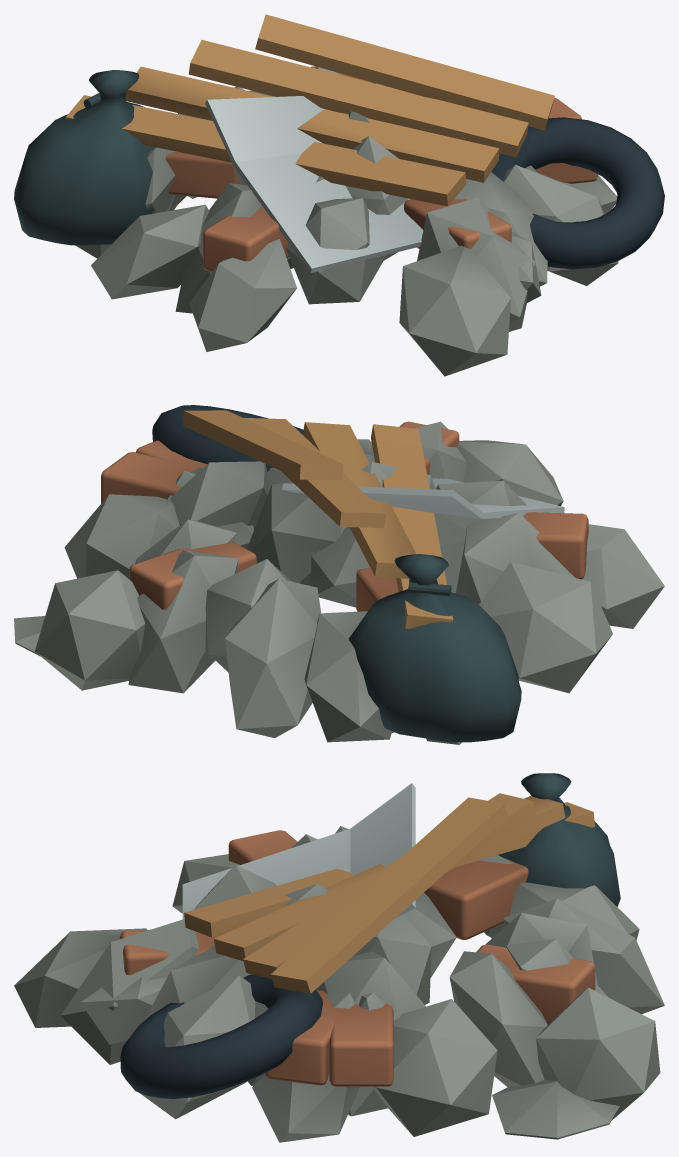
File: industrial-waste.glb
The picture shows the model from 3 angles, top to bottom: view 1: azimuth 30°, elevation 25°; view 2: azimuth 150°, elevation 25°; view 3: azimuth 270°, elevation 25°; orthographic projection. The views are drawn at different scales.
Visible parts, largest first — view 1: fractured concrete, discarded pallet slat, creased tied refuse sack, bent metal sheet, discarded tyre, broken hollow brick; view 2: fractured concrete, creased tied refuse sack, discarded pallet slat, broken hollow brick, bent metal sheet, discarded tyre; view 3: fractured concrete, discarded pallet slat, broken hollow brick, discarded tyre, bent metal sheet, creased tied refuse sack.
Boxes of the visible parts, left/top/right/bottom form: fractured concrete: left=75, top=66, right=618, bottom=376; discarded pallet slat: left=65, top=14, right=554, bottom=206; creased tied refuse sack: left=14, top=70, right=154, bottom=245; bent metal sheet: left=205, top=96, right=423, bottom=272; discarded tyre: left=491, top=117, right=664, bottom=269; broken hollow brick: left=165, top=66, right=597, bottom=271; fractured concrete: left=14, top=421, right=664, bottom=744; creased tied refuse sack: left=348, top=554, right=521, bottom=742; discarded pallet slat: left=183, top=410, right=453, bottom=628; broken hollow brick: left=101, top=421, right=588, bottom=611; bent metal sheet: left=282, top=478, right=564, bottom=518; discarded tyre: left=152, top=405, right=303, bottom=471; fractured concrete: left=14, top=826, right=664, bottom=1142; discarded pallet slat: left=184, top=793, right=594, bottom=993; broken hollow brick: left=119, top=830, right=595, bottom=1086; discarded tyre: left=120, top=974, right=322, bottom=1098; bent metal sheet: left=182, top=783, right=415, bottom=919; creased tied refuse sack: left=484, top=773, right=620, bottom=932.
Size of the model in its own units: 1.09 by 0.4654 by 1.16.
